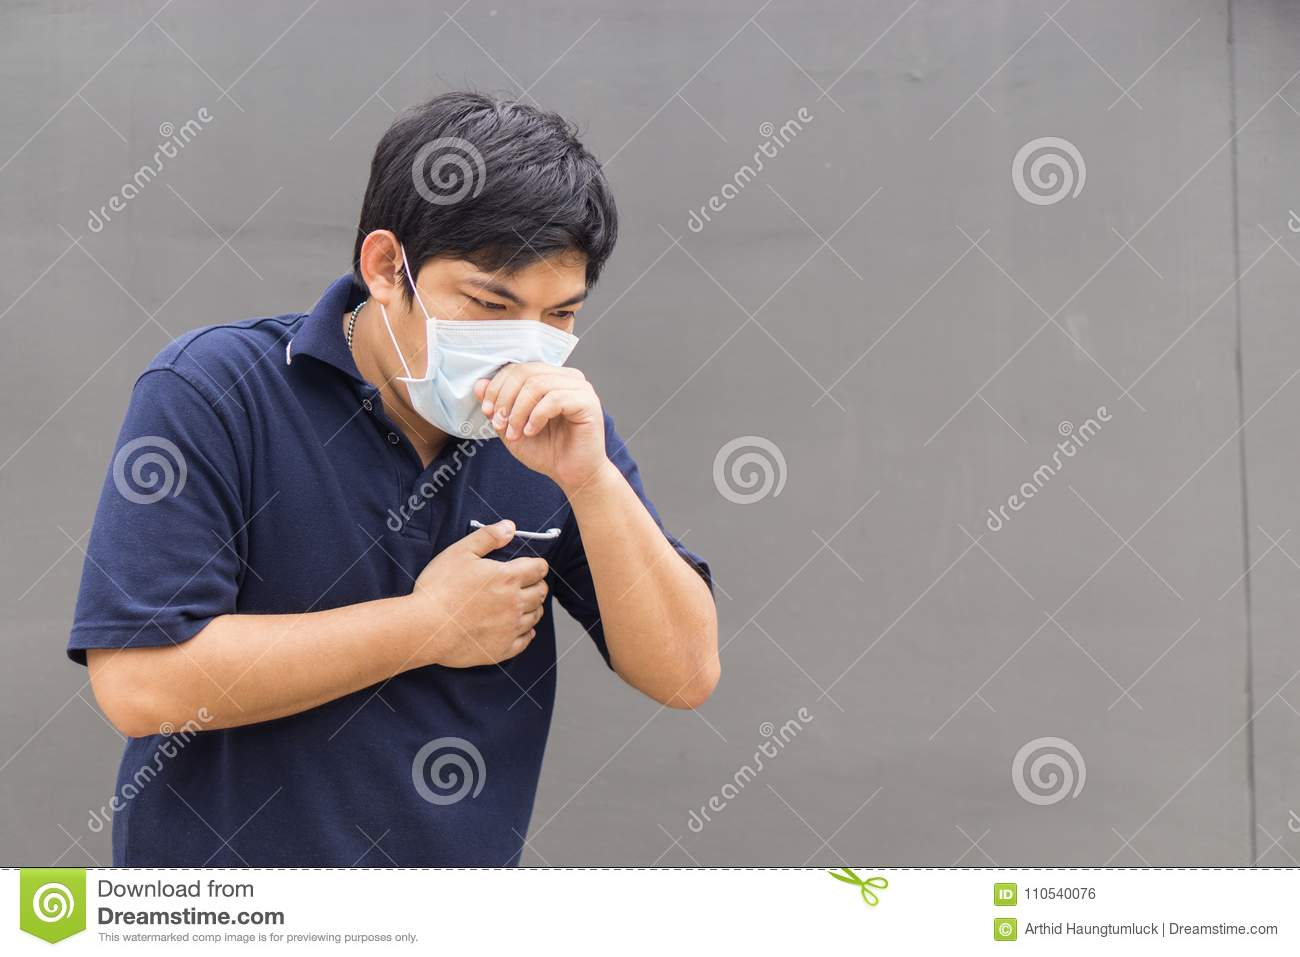mask: (403, 318, 580, 452)
